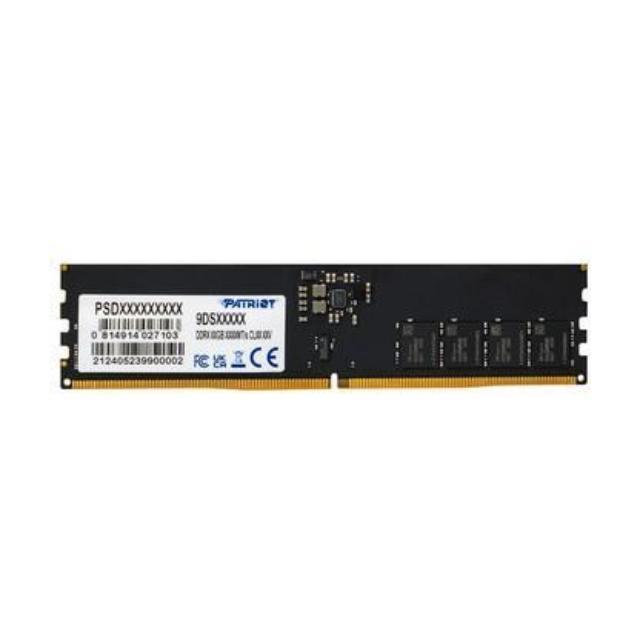RAM: (55, 255, 592, 392)
